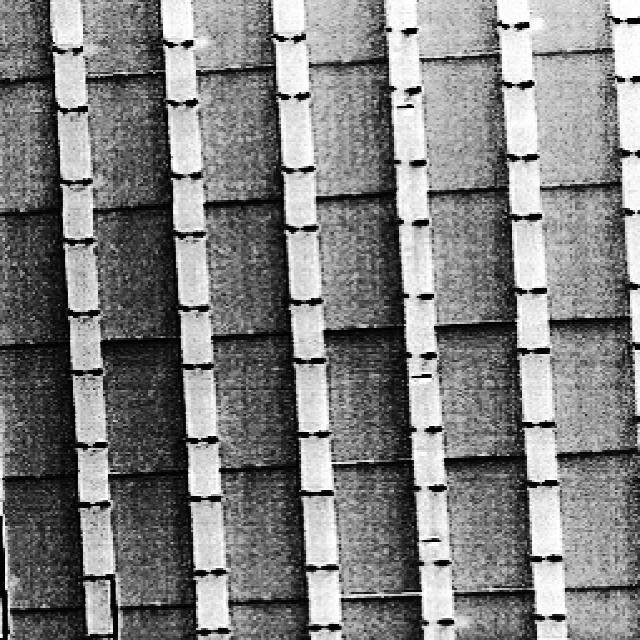Hotspots: (188, 28, 219, 54), (523, 12, 557, 35), (451, 611, 478, 637)
PV-modules: (313, 64, 402, 202), (424, 58, 514, 194), (532, 51, 620, 190), (439, 325, 527, 463), (212, 336, 300, 472), (552, 322, 640, 458), (318, 196, 404, 335), (99, 338, 184, 477), (332, 463, 418, 599), (85, 73, 171, 209), (196, 69, 282, 205), (548, 186, 632, 325), (449, 458, 534, 595), (220, 467, 304, 605), (327, 328, 412, 464), (431, 193, 516, 328), (114, 475, 198, 610), (206, 202, 290, 336), (93, 207, 175, 341), (5, 479, 86, 614), (0, 344, 80, 480), (562, 452, 640, 590), (0, 210, 73, 346), (0, 76, 65, 214), (79, 0, 165, 75), (192, 0, 279, 69), (301, 0, 389, 60), (415, 0, 504, 58), (0, 0, 58, 80), (526, 1, 613, 53), (454, 592, 540, 640), (341, 598, 432, 640), (569, 590, 640, 640), (224, 602, 312, 640), (115, 606, 201, 640), (10, 610, 95, 640)
